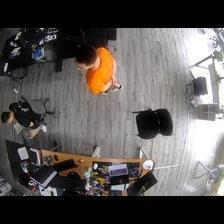normal: (70, 43, 124, 99), (1, 96, 50, 137)
